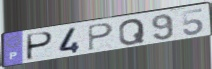4: (57, 26, 84, 55)
5: (182, 7, 205, 36)
9: (150, 13, 175, 41)
P: (25, 31, 55, 62), (87, 22, 115, 52)
Q: (118, 18, 147, 47)
